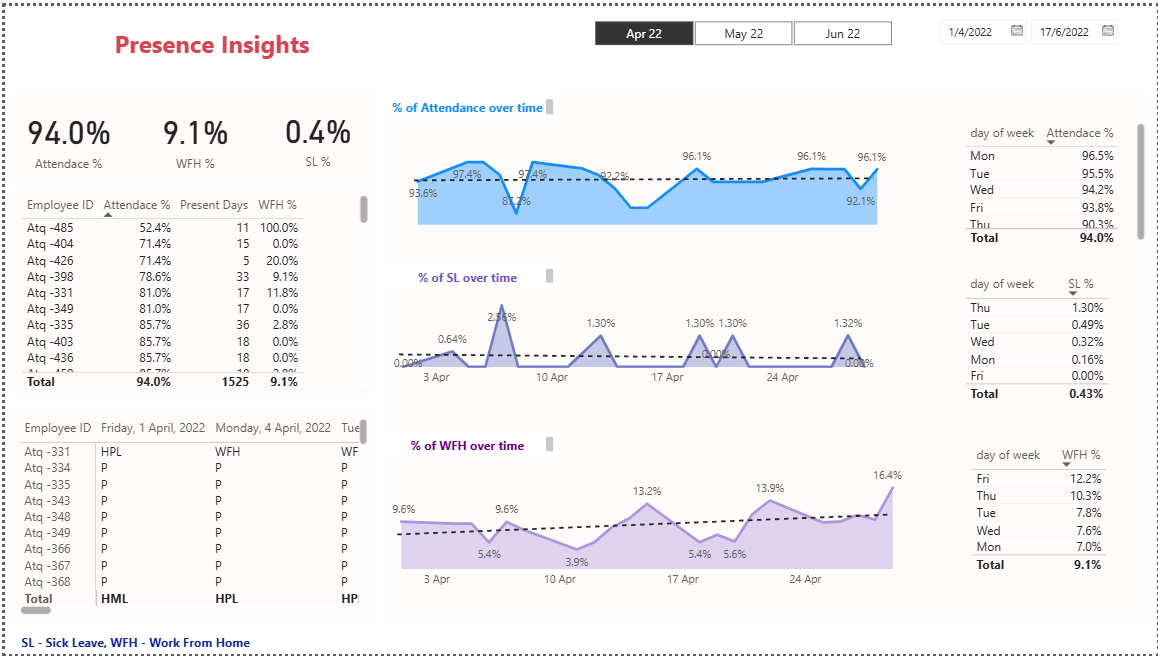

The dashboard page shown, as its layout file describes it:
{"tool":"powerbi","page":{"name":"Page 1","canvas":[1280,720],"ordinal":0},"visuals":[{"type":"card","fields":{"Values":["Measure.presence percentage"]},"box":[0,87.3,176,82],"z":0},{"type":"slicer","fields":{"Values":["Final Data.Month"]},"box":[598,74,644,108],"z":1000},{"type":"card","fields":{"Values":["Measure.WFH %"]},"box":[176,87.3,160,82],"z":2000},{"type":"card","fields":{"Values":["Measure.SL %"]},"box":[336,87.3,162,82],"z":3000},{"type":"tableEx","fields":{"Values":["Final Data.Name","Measure.presence %","Measure.WFH %","Measure.SL %"]},"box":[36,170,366,268],"z":4000},{"type":"actionButton","box":[0,0,100,40],"z":5000},{"type":"pivotTable","fields":{"Rows":["Final Data.Name"],"Values":["Min(Final Data.Value)"],"Columns":["Final Data.Date"]},"box":[36,438,366,282],"z":6000},{"type":"stackedAreaChart","fields":{"Y":["Measure.presence %"],"Category":["Final Data.Date"]},"box":[433.3,200,580,160],"z":7000},{"type":"stackedAreaChart","fields":{"Y":["Measure.WFH %"],"Category":["Final Data.Date"]},"box":[433.3,380,580,158],"z":8000},{"type":"stackedAreaChart","fields":{"Y":["Measure.SL %"],"Category":["Final Data.Date"]},"box":[433.3,558,580,142],"z":8001},{"type":"tableEx","fields":{"Values":["Final Data.Day of Week","Measure.presence %"]},"box":[1058.7,200,200,160],"z":8002},{"type":"tableEx","fields":{"Values":["Final Data.Day of Week","Measure.WFH %"]},"box":[1058,380,200,160],"z":8003},{"type":"tableEx","fields":{"Values":["Final Data.Day of Week","Measure.SL %"]},"box":[1058.7,538,200,162],"z":8004},{"type":"textbox","box":[448,0,384,74],"z":8005},{"type":"shape","box":[0,0,1280,68],"z":8006},{"type":"shape","box":[28,94,444,76],"z":8007}]}

Visuals, with their boxes in screenshot pixels (x1, y1, x2, y2), scaled from the page's 1280x720 canvas onto the 1158x658 screenshot:
card - Measure.presence percentage: bbox(0, 80, 159, 155)
slicer - Final Data.Month: bbox(541, 68, 1124, 166)
card - Measure.WFH %: bbox(159, 80, 304, 155)
card - Measure.SL %: bbox(304, 80, 451, 155)
tableEx - Final Data.Name x Measure.presence %: bbox(33, 155, 364, 400)
actionButton: bbox(0, 0, 90, 37)
pivotTable - Final Data.Name x Min(Final Data.Value): bbox(33, 400, 364, 657)
stackedAreaChart - Measure.presence % x Final Data.Date: bbox(392, 183, 917, 329)
stackedAreaChart - Measure.WFH % x Final Data.Date: bbox(392, 347, 917, 492)
stackedAreaChart - Measure.SL % x Final Data.Date: bbox(392, 510, 917, 640)
tableEx - Final Data.Day of Week x Measure.presence %: bbox(958, 183, 1139, 329)
tableEx - Final Data.Day of Week x Measure.WFH %: bbox(957, 347, 1138, 494)
tableEx - Final Data.Day of Week x Measure.SL %: bbox(958, 492, 1139, 640)
textbox: bbox(405, 0, 753, 68)
shape: bbox(0, 0, 1157, 62)
shape: bbox(25, 86, 427, 155)
